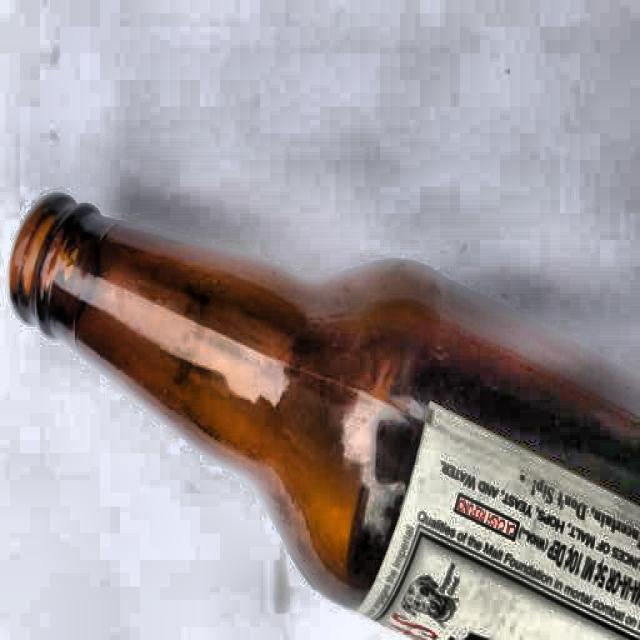glass: (6, 187, 640, 640)
